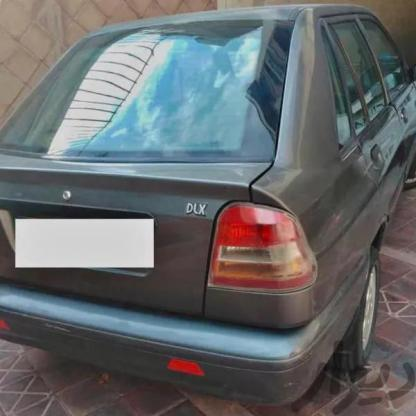Car: (0, 0, 411, 416)
